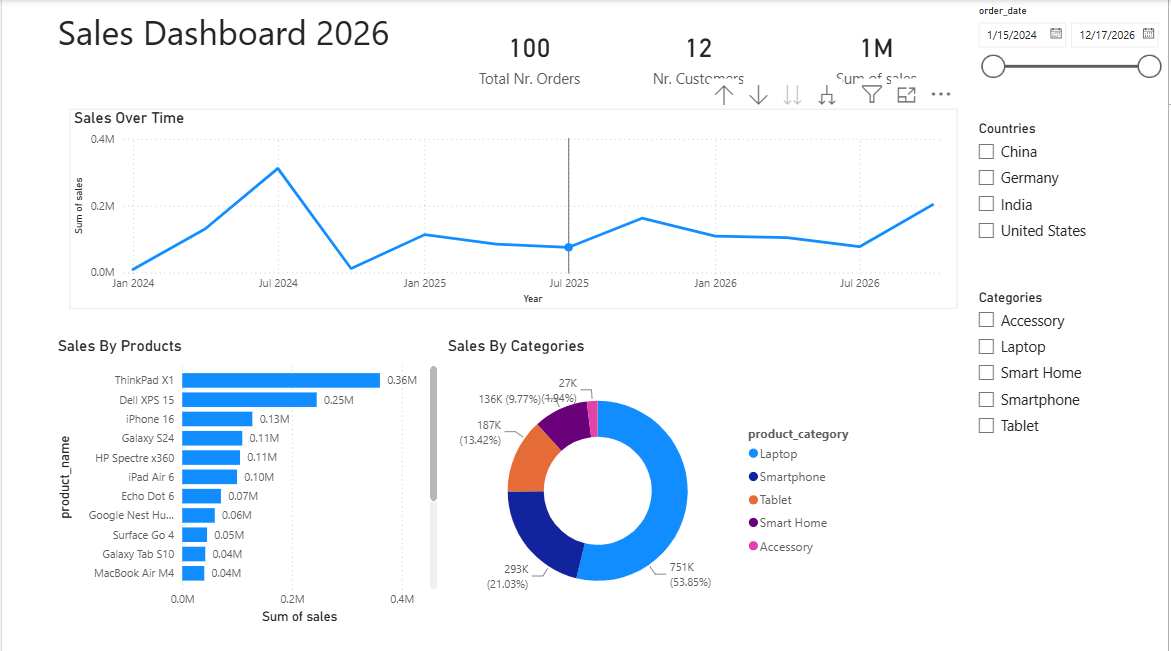

The page's visual inventory and layout, read from the dashboard file:
{"tool":"powerbi","page":{"name":"Page 1","canvas":[1280,720],"ordinal":0},"visuals":[{"type":"barChart","title":"Sales By Products","fields":{"Category":["orders.product_name"],"Y":["Sum(orders.sales)"]},"box":[55.6,369.8,426.7,320.6],"z":0},{"type":"donutChart","title":"Sales By Categories","fields":{"Category":["orders.product_category"],"Y":["Sum(orders.sales)"]},"box":[484.8,369.8,465.5,320.6],"z":1000},{"type":"card","fields":{"Values":["CountNonNull(orders.order_id)"]},"box":[504.2,0,151.3,122.8],"z":2000},{"type":"card","fields":{"Values":["Count(orders.customer_id)"]},"box":[680.1,0,168.1,122.8],"z":3000},{"type":"card","fields":{"Values":["Sum(orders.sales)"]},"box":[862.4,0,196.5,122.8],"z":4000},{"type":"lineChart","title":"Sales Over Time","fields":{"Category":["orders.order_date.Variation.Date Hierarchy.Year","orders.order_date.Variation.Date Hierarchy.Quarter","orders.order_date.Variation.Date Hierarchy.Month","orders.order_date.Variation.Date Hierarchy.Day"],"Y":["Sum(orders.sales)"]},"box":[73.7,118.9,974.9,219.8],"z":5000},{"type":"slicer","fields":{"Values":["customers.country"]},"box":[1058.9,128,221.1,153.9],"z":6000},{"type":"slicer","fields":{"Values":["orders.product_category"]},"box":[1058.9,312.9,221.1,196.5],"z":7000},{"type":"slicer","fields":{"Values":["orders.order_date"]},"box":[1058.9,0,221.1,128],"z":8000},{"type":"textbox","box":[55.6,3.9,426.7,75],"z":9000}]}

Visuals, with their boxes in screenshot pixels (x1, y1, x2, y2), scaled from the page's 1280x720 canvas onto the 1171x651 screenshot:
"Sales By Products" barChart: 51 334 441 624
"Sales By Categories" donutChart: 444 334 869 624
card - CountNonNull(orders.order_id): 461 0 600 111
card - Count(orders.customer_id): 622 0 776 111
card - Sum(orders.sales): 789 0 969 111
"Sales Over Time" lineChart: 67 108 959 306
slicer - customers.country: 969 116 1170 255
slicer - orders.product_category: 969 283 1170 461
slicer - orders.order_date: 969 0 1170 116
textbox: 51 4 441 71
